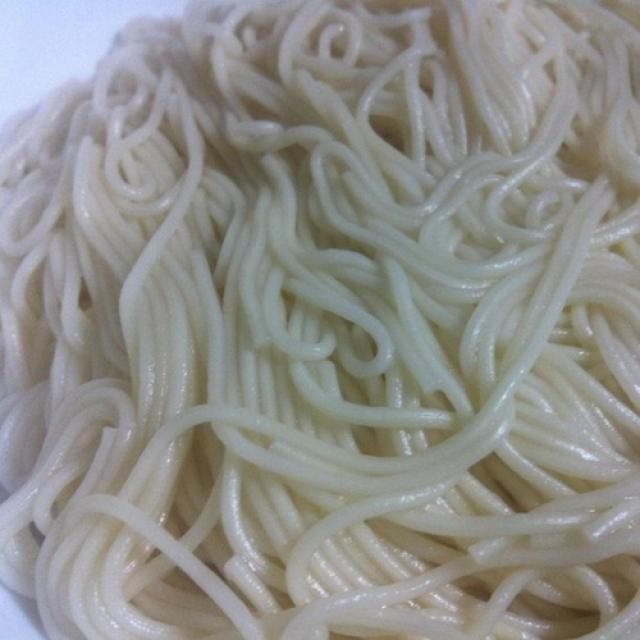面条主食: (1, 5, 631, 631)
